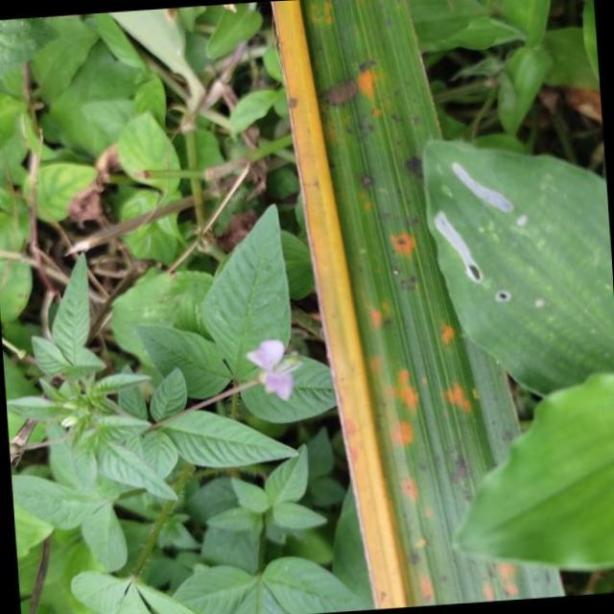Megnesium: (271, 0, 566, 605)
